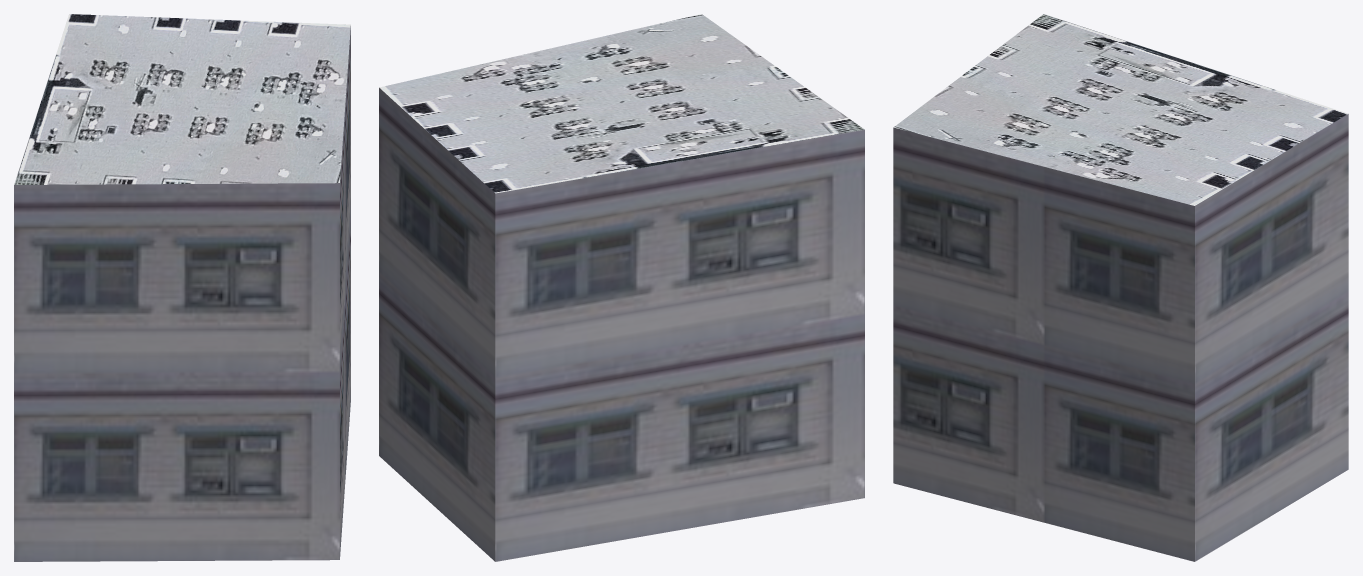
The model's file is ResTex__1814.fbx.
3 views of the same model, side by side, from view 1: azimuth 30°, elevation 25°; view 2: azimuth 150°, elevation 25°; view 3: azimuth 270°, elevation 25° (orthographic). The views are drawn at different scales.
Parts seen in each view (by area): view 1: CityEngineMaterial_1_m, CityEngineMaterial_8_m; view 2: CityEngineMaterial_1_m, CityEngineMaterial_8_m; view 3: CityEngineMaterial_1_m, CityEngineMaterial_8_m.
Boxes of the visible parts, x1,y1,x2,y2 form: CityEngineMaterial_1_m: (14, 26, 350, 561); CityEngineMaterial_8_m: (14, 14, 350, 184); CityEngineMaterial_1_m: (379, 88, 864, 561); CityEngineMaterial_8_m: (379, 14, 864, 193); CityEngineMaterial_1_m: (893, 114, 1348, 561); CityEngineMaterial_8_m: (894, 14, 1347, 205).
Size of the model in its own units: 6.94 by 6 by 6.95.
Materials: 2 (2 with a texture image).
